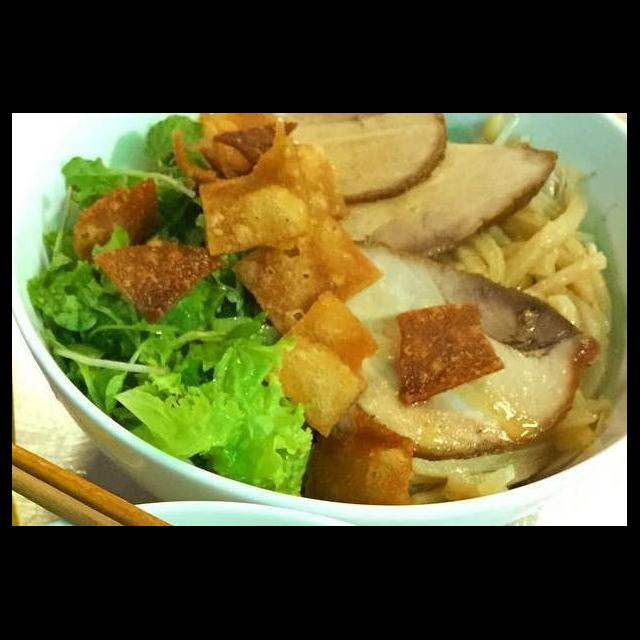banh da: (228, 210, 388, 344), (250, 286, 384, 441), (194, 134, 314, 264), (392, 300, 508, 410), (90, 238, 228, 326), (170, 114, 304, 190), (300, 429, 420, 512), (70, 172, 166, 268)
mi: (434, 164, 618, 348), (406, 382, 618, 508)
mi quang: (20, 139, 627, 526)
thit heo: (306, 237, 606, 466), (328, 136, 564, 266), (268, 115, 454, 212)
